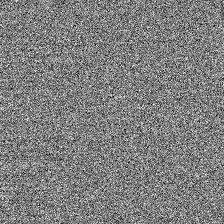cavities: (28, 81, 182, 138)
